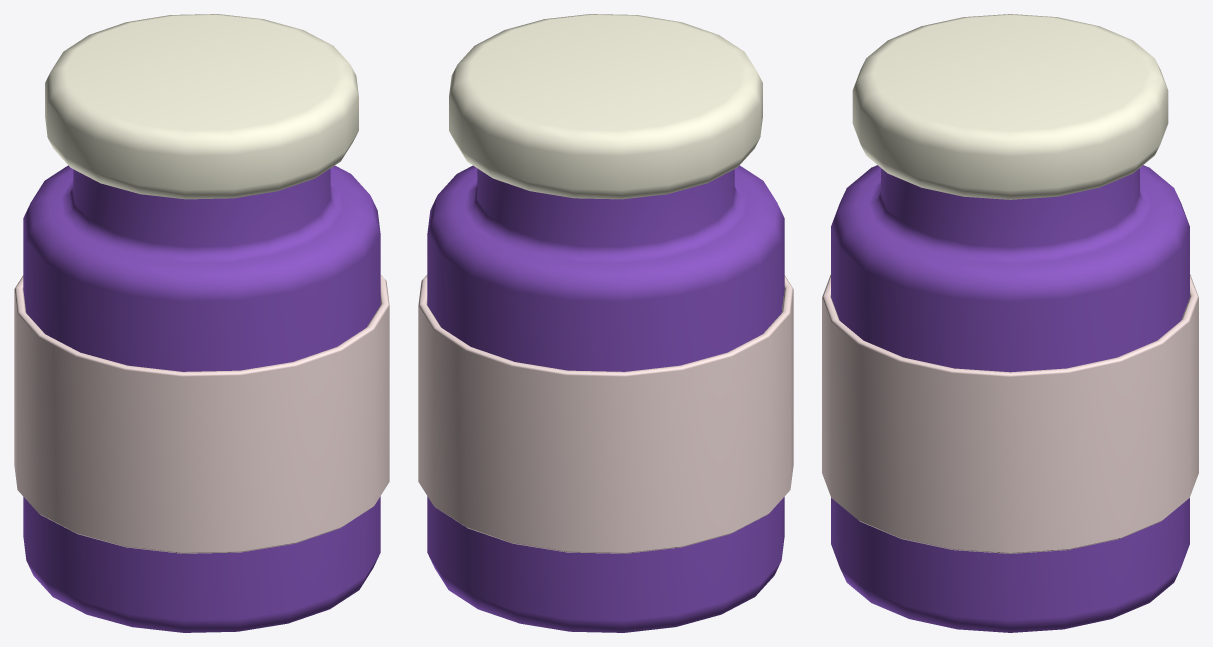
The model's file is Farm_17_Bottle_4.glb.
3 views of the same model, side by side, from view 1: azimuth 30°, elevation 25°; view 2: azimuth 150°, elevation 25°; view 3: azimuth 270°, elevation 25° (orthographic).
Visible parts, largest first — view 1: Farm_17_Bottle_4; view 2: Farm_17_Bottle_4; view 3: Farm_17_Bottle_4.
Boxes of the visible parts, x1,y1,x2,y2 form: Farm_17_Bottle_4: (14, 14, 389, 632); Farm_17_Bottle_4: (418, 14, 793, 632); Farm_17_Bottle_4: (822, 14, 1198, 632).
Bounding box in the file's own units: 0.2054 × 0.2969 × 0.2054.
Materials: 1 (1 with a texture image).
